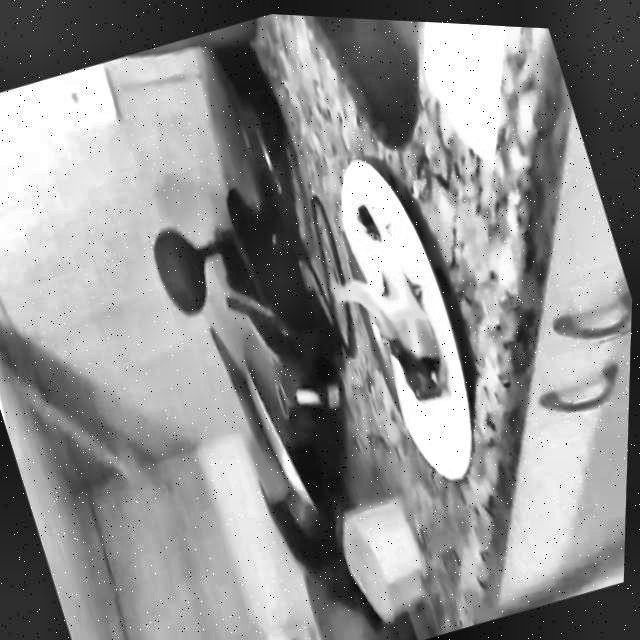Fire: (319, 228, 467, 424)
